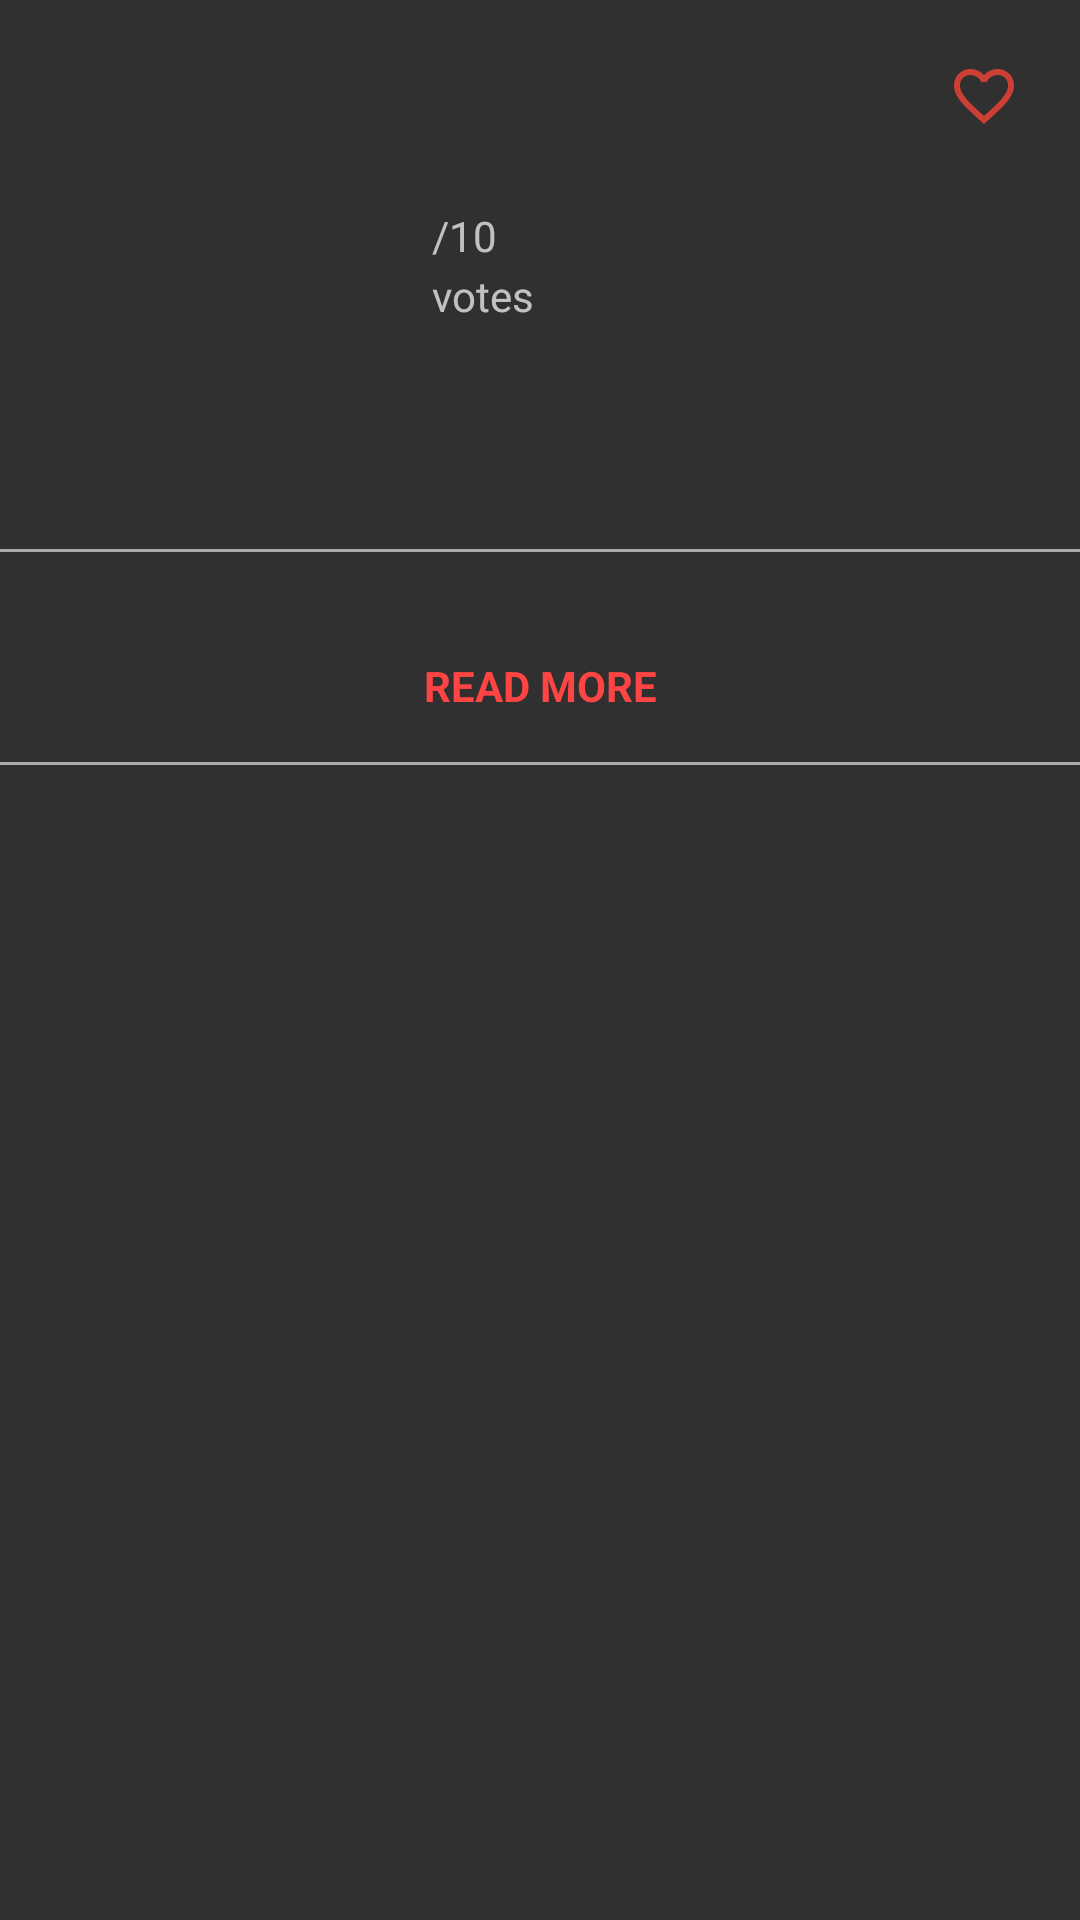

Icon bounding boxes for this 1080px x 1920px phone screenshot, format {"x1": x1, "y1": y1, "x2": x2, "y2": y2}:
Favourite this movie: {"x1": 954, "y1": 69, "x2": 1014, "y2": 124}
